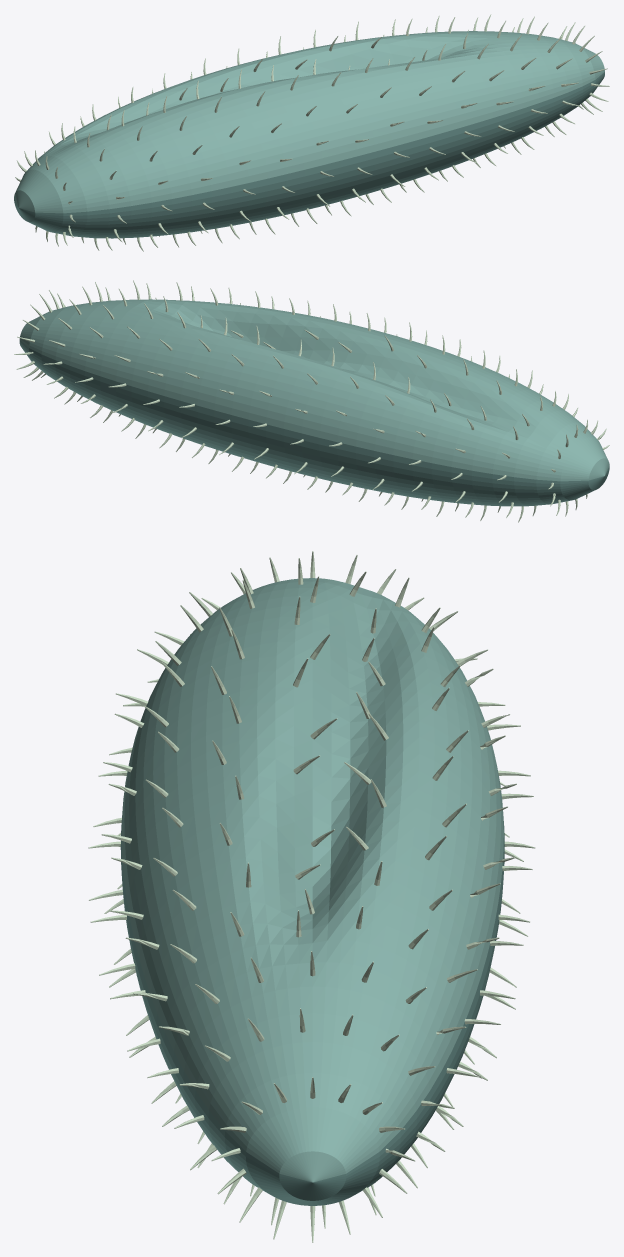
The picture shows the model from 3 angles, top to bottom: view 1: azimuth 30°, elevation 25°; view 2: azimuth 150°, elevation 25°; view 3: azimuth 270°, elevation 25°; orthographic projection. The views are drawn at different scales.
Parts seen in each view (by area): view 1: WholeAsymmetricOralGroovedCell; view 2: WholeAsymmetricOralGroovedCell; view 3: WholeAsymmetricOralGroovedCell.
Boxes of the visible parts, left/top/right/bottom form: WholeAsymmetricOralGroovedCell: left=14, top=31, right=604, bottom=238; WholeAsymmetricOralGroovedCell: left=19, top=299, right=609, bottom=506; WholeAsymmetricOralGroovedCell: left=120, top=578, right=504, bottom=1205.
Bounding box in the file's own units: 0.24 × 0.0617 × 0.0797.
